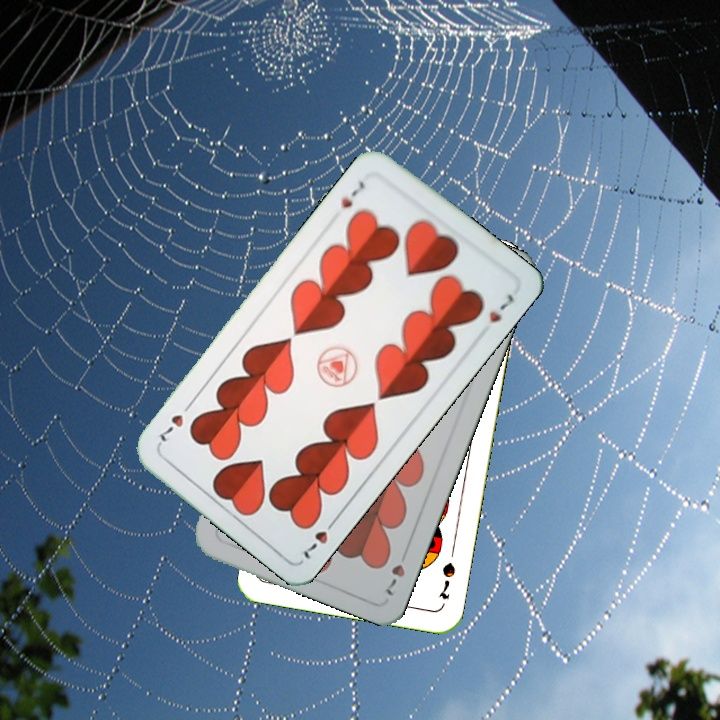H7: (299, 513, 340, 562), (381, 544, 409, 599), (336, 177, 369, 211)
S7: (434, 558, 458, 602)
